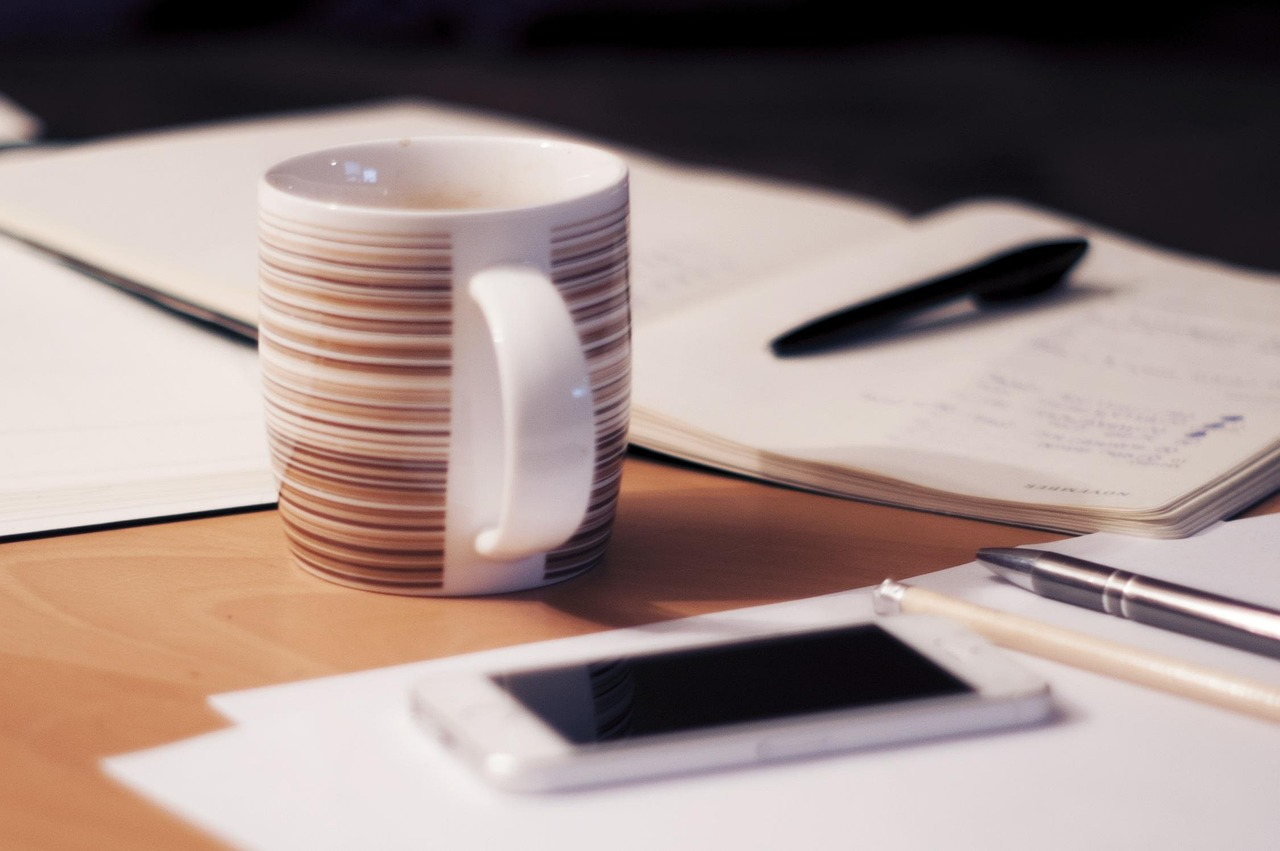mug: (226, 139, 687, 610)
